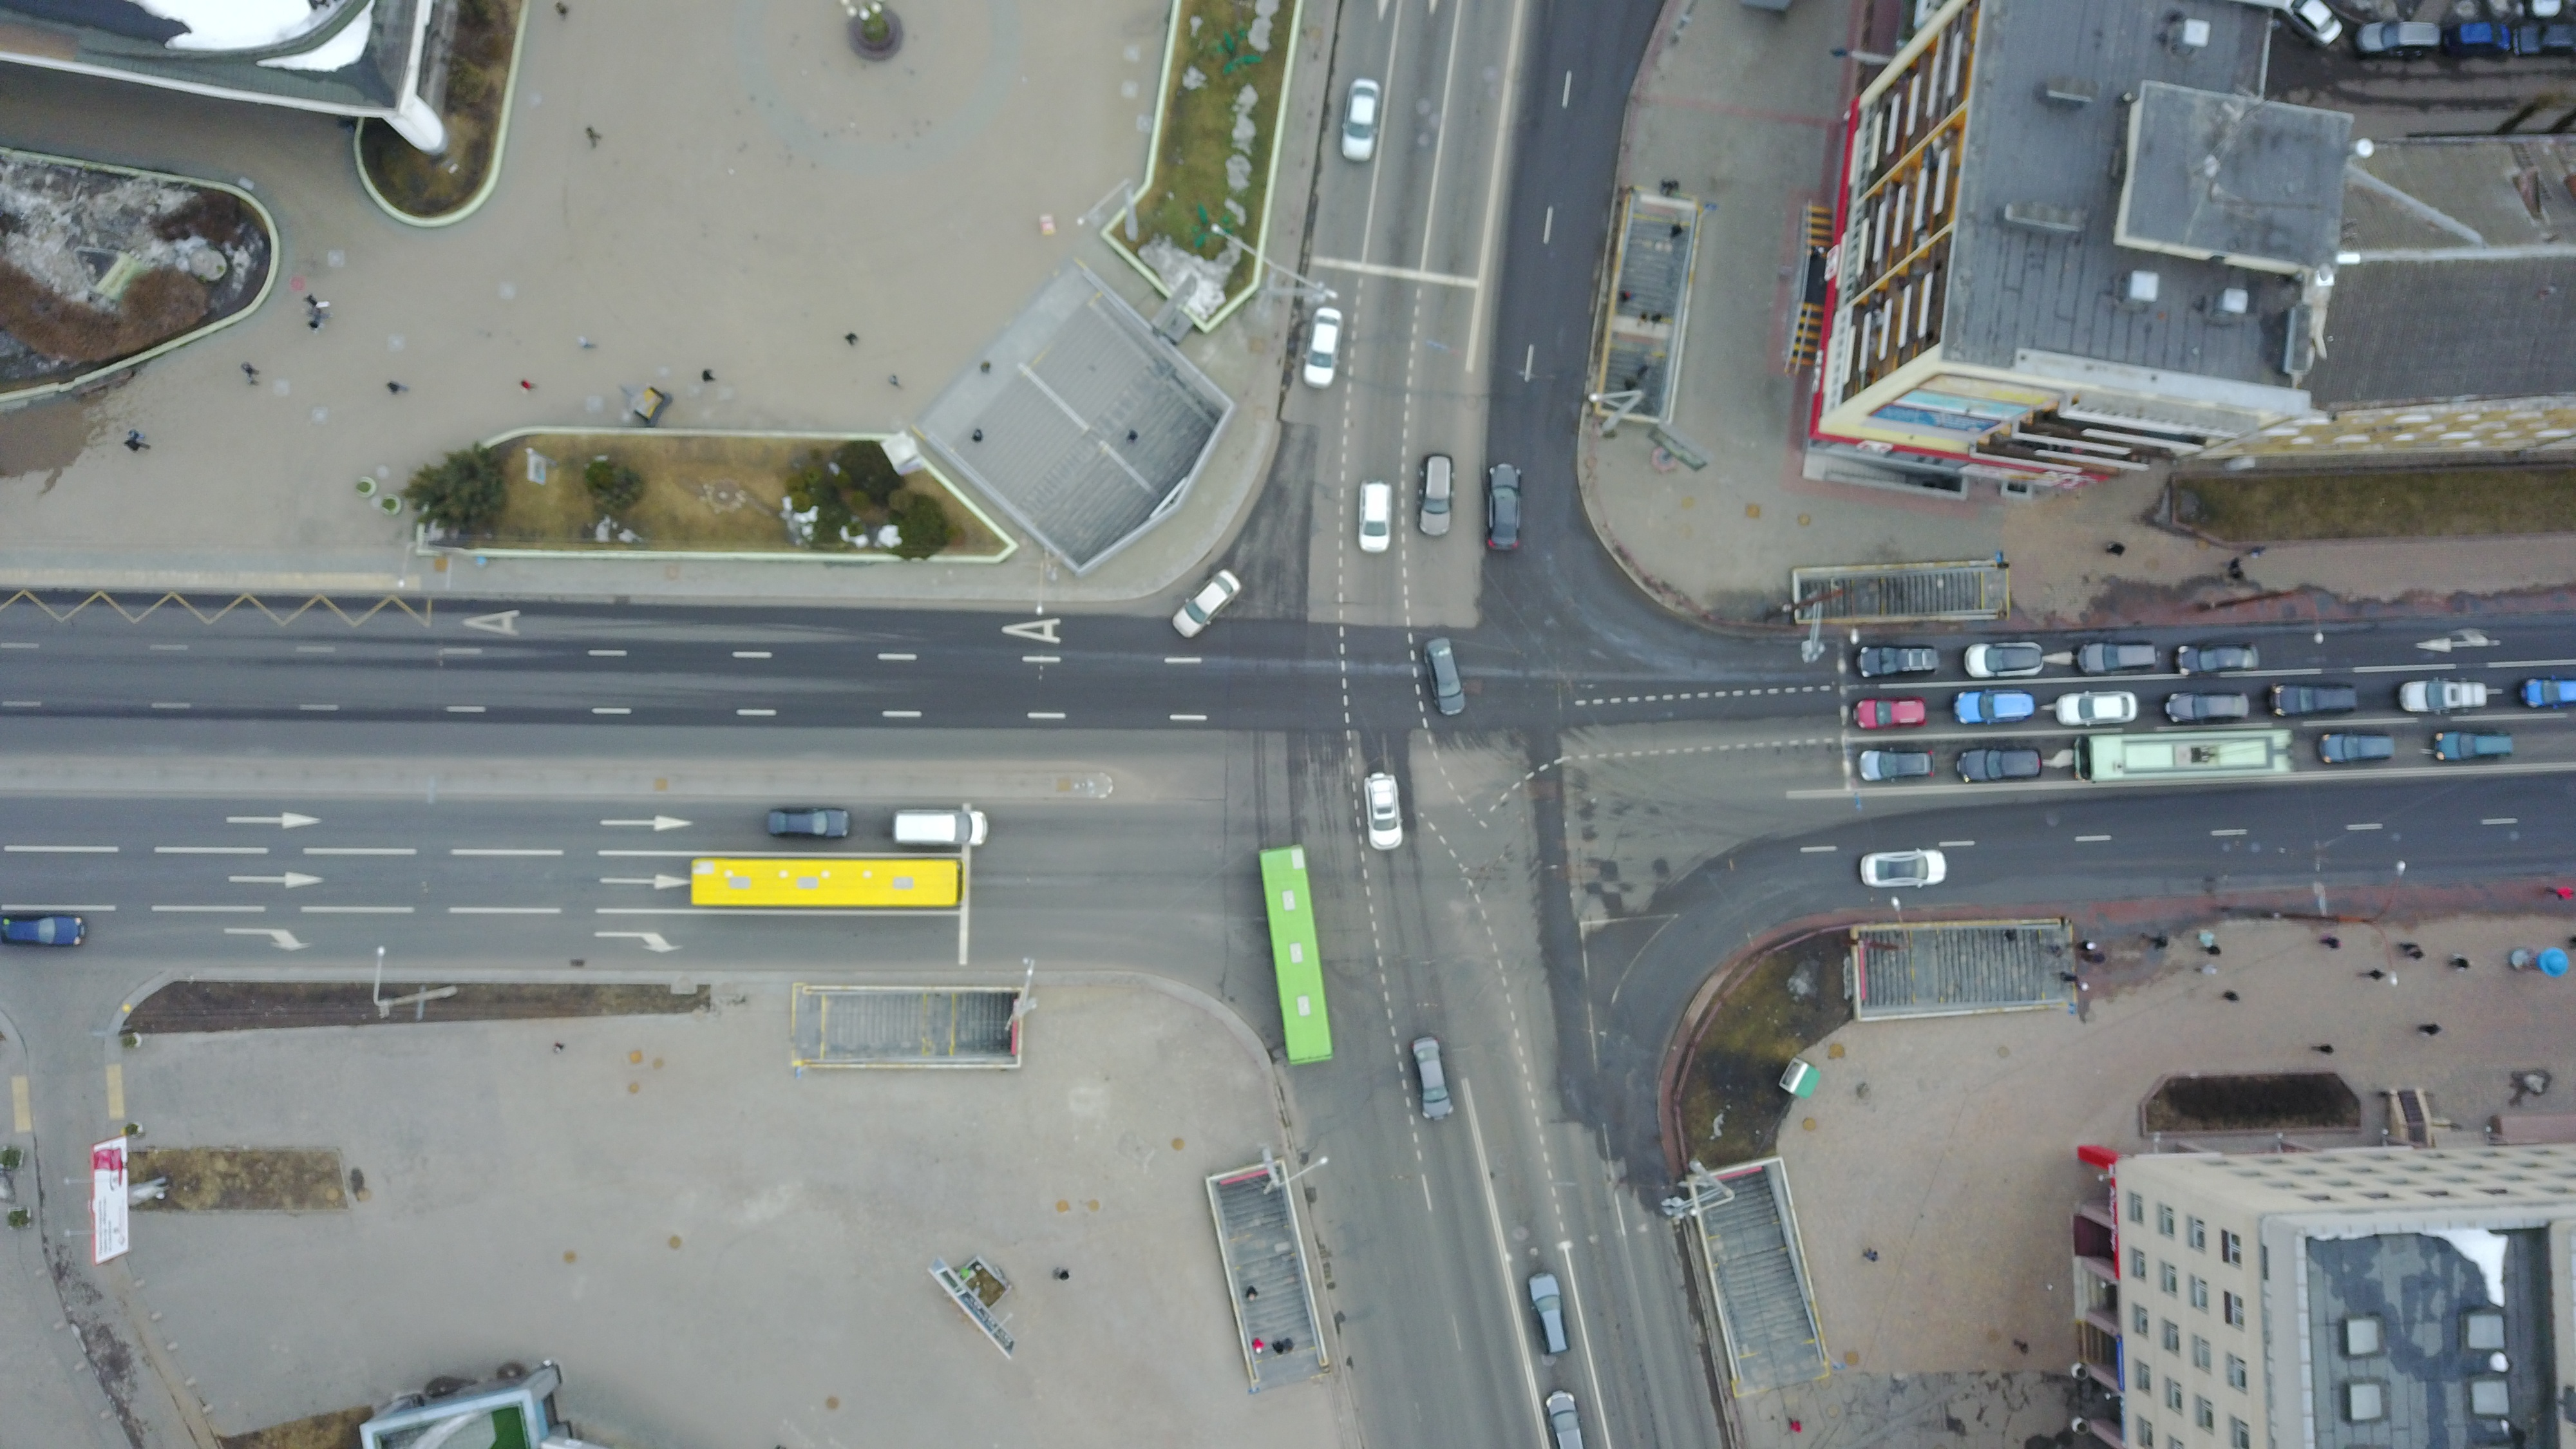car: (1166, 568, 1244, 649), (1522, 1269, 1576, 1362), (1407, 1030, 1460, 1123), (1334, 69, 1385, 163), (1479, 458, 1529, 550), (1858, 844, 1951, 892), (1419, 635, 1472, 718), (1361, 764, 1407, 856), (1302, 304, 1348, 391), (2392, 674, 2493, 713), (2268, 678, 2364, 718), (2173, 637, 2266, 678), (2316, 727, 2397, 773), (1417, 444, 1456, 538), (1962, 639, 2047, 681), (1852, 743, 1937, 786), (1951, 688, 2040, 727), (2, 909, 90, 948), (1352, 479, 1398, 554), (2049, 688, 2139, 725), (1957, 748, 2047, 784), (2426, 729, 2518, 763), (2162, 688, 2252, 722), (1856, 644, 1944, 678), (1851, 694, 1927, 732), (2075, 640, 2162, 672), (761, 809, 853, 837)
